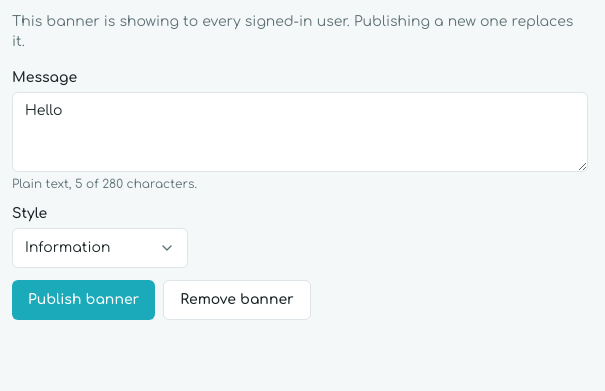
Scenario: AnnouncementForm › removes the current banner
The width and height of the screenshot is (605, 391).
Expected: the text box labelled "Message" holds "Hello", [12,92,588,172]
Click the button "Remove banner" at [237, 300], box [163,280,311,320]
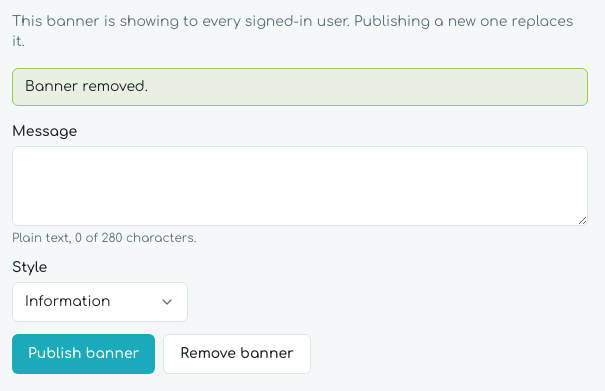
Expected: the text "Banner removed." is shown, [12,68,588,106]
Expected: the text box labelled "Message" is empty, [12,146,588,226]
